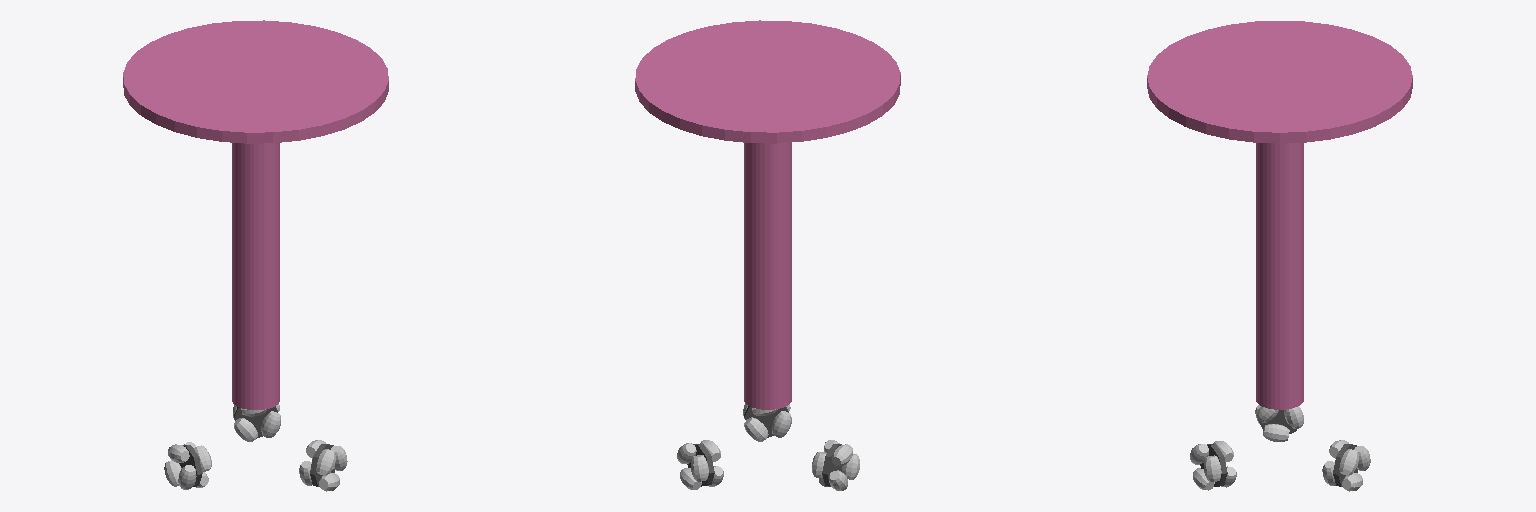
robot.urdf — rto:
<?xml version="1.0" ?>
<!-- =================================================================================== -->
<!-- |    This document was autogenerated by xacro from rto_platform_kinect.urdf.xacro | -->
<!-- |    EDITING THIS FILE BY HAND IS NOT RECOMMENDED                                 | -->
<!-- =================================================================================== -->
<robot name="rto" xmlns:xacro="http://ros.org/wiki/xacro">
  <!-- main rto body -->
  <link name="base_link">
    <inertial>
      <mass value="20"/>
      <origin xyz="0 0 0"/>
      <inertia ixx="1.0" ixy="0.0" ixz="0.0" iyy="1.0" iyz="0.0" izz="1.0"/>
    </inertial>
    <visual>
      <origin rpy="0 0 1.570795" xyz="0.01 0 0"/>
      <geometry>
        <mesh filename="package://tme_models/meshes/parts/rto_base.dae" scale="0.01 0.01 0.01"/>
      </geometry>
    </visual>
    <collision>
      <origin rpy="0 0 0" xyz="0 0 0.025"/>
      <geometry>
        <cylinder length="0.05" radius="0.18"/>
      </geometry>
    </collision>
  </link>
  <gazebo reference="base_link">
    <material>Gazebo/White</material>
    <turnGravityOff>false</turnGravityOff>
  </gazebo>
  <link name="wheel0_link">
    <inertial>
      <mass value="0.00001"/>
      <origin xyz="0 0 0"/>
      <inertia ixx="1.0" ixy="0.0" ixz="0.0" iyy="1.0" iyz="0.0" izz="1.0"/>
    </inertial>
    <visual>
      <origin rpy="0 0 0" xyz="0 0 0"/>
      <geometry>
        <mesh filename="package://tme_models/meshes/parts/rto_wheel.dae" scale="0.01 0.01 0.01"/>
      </geometry>
    </visual>
  </link>
  <gazebo reference="wheel0_link">
    <material>Gazebo/Yellow</material>
    <turnGravityOff>false</turnGravityOff>
  </gazebo>
  <joint name="wheel0_joint" type="continuous">
    <origin rpy="0 0 1.04719666667" xyz="0.065 0.11 0.04"/>
    <axis xyz="-1 0 0"/>
    <parent link="base_link"/>
    <child link="wheel0_link"/>
  </joint>
  <transmission name="wheel0_joint_trans">
    <type>transmissio_interface/SimpleTransmission</type>
    <joint name="wheel0_joint"/>
    <actuator name="wheel0_motor">
      <hardwareInterface>EffortJointInterface</hardwareInterface>
      <mechanicalReducation>1</mechanicalReducation>
    </actuator>
  </transmission>
  <link name="wheel1_link">
    <inertial>
      <mass value="0.00001"/>
      <origin xyz="0 0 0"/>
      <inertia ixx="1.0" ixy="0.0" ixz="0.0" iyy="1.0" iyz="0.0" izz="1.0"/>
    </inertial>
    <visual>
      <origin rpy="0 0 0" xyz="0 0 0"/>
      <geometry>
        <mesh filename="package://tme_models/meshes/parts/rto_wheel.dae" scale="0.01 0.01 0.01"/>
      </geometry>
    </visual>
  </link>
  <gazebo reference="wheel1_link">
    <material>Gazebo/Yellow</material>
    <turnGravityOff>false</turnGravityOff>
  </gazebo>
  <joint name="wheel1_joint" type="continuous">
    <origin rpy="0 0 0" xyz="-0.13 0 0.04"/>
    <axis xyz="1 0 0"/>
    <parent link="base_link"/>
    <child link="wheel1_link"/>
  </joint>
  <transmission name="wheel1_joint_trans">
    <type>transmissio_interface/SimpleTransmission</type>
    <joint name="wheel1_joint"/>
    <actuator name="wheel1_motor">
      <hardwareInterface>EffortJointInterface</hardwareInterface>
      <mechanicalReducation>1</mechanicalReducation>
    </actuator>
  </transmission>
  <link name="wheel2_link">
    <inertial>
      <mass value="0.00001"/>
      <origin xyz="0 0 0"/>
      <inertia ixx="1.0" ixy="0.0" ixz="0.0" iyy="1.0" iyz="0.0" izz="1.0"/>
    </inertial>
    <visual>
      <origin rpy="0 0 0" xyz="0 0 0"/>
      <geometry>
        <mesh filename="package://tme_models/meshes/parts/rto_wheel.dae" scale="0.01 0.01 0.01"/>
      </geometry>
    </visual>
  </link>
  <gazebo reference="wheel2_link">
    <material>Gazebo/Yellow</material>
    <turnGravityOff>false</turnGravityOff>
  </gazebo>
  <joint name="wheel2_joint" type="continuous">
    <origin rpy="0 0 -1.04719666667" xyz="0.065 -0.11 0.04"/>
    <axis xyz="-1 0 0"/>
    <parent link="base_link"/>
    <child link="wheel2_link"/>
  </joint>
  <transmission name="wheel2_joint_trans">
    <type>transmissio_interface/SimpleTransmission</type>
    <joint name="wheel2_joint"/>
    <actuator name="wheel2_motor">
      <hardwareInterface>EffortJointInterface</hardwareInterface>
      <mechanicalReducation>1</mechanicalReducation>
    </actuator>
  </transmission>
  <link name="command_bridge_link">
    <inertial>
      <mass value="0.00001"/>
      <origin xyz="0 0 0"/>
      <inertia ixx="1.0" ixy="0.0" ixz="0.0" iyy="1.0" iyz="0.0" izz="1.0"/>
    </inertial>
    <collision>
      <origin rpy="0 0 0" xyz="0 0 0"/>
      <geometry>
        <box size="0.25 0.11 0.16"/>
      </geometry>
    </collision>
  </link>
  <joint name="command_bridge_joint" type="fixed">
    <origin rpy="0 0 1.570795" xyz="-0.05 0 0.13"/>
    <parent link="base_link"/>
    <child link="command_bridge_link"/>
  </joint>
  <link name="anglebracketusb_link">
    <inertial>
      <mass value="0.00001"/>
      <origin xyz="0 0 0"/>
      <inertia ixx="1.0" ixy="0.0" ixz="0.0" iyy="1.0" iyz="0.0" izz="1.0"/>
    </inertial>
    <visual>
      <origin rpy="0 0 0" xyz="0 0 0"/>
      <geometry>
        <mesh filename="package://tme_models/meshes/parts/angle_bracket_usb_hub.dae" scale="0.01 0.01 0.01"/>
      </geometry>
    </visual>
  </link>
  <joint name="anglebracketusb_joint" type="fixed">
    <origin rpy="0 0 1.570795" xyz="0.008 0 0.137"/>
    <parent link="base_link"/>
    <child link="anglebracketusb_link"/>
  </joint>
  <gazebo>
    <plugin filename="libgazebo_ros_planar_move.so" name="object_controller">
      <commandTopic>cmd_vel</commandTopic>
      <odometryTopic>odom</odometryTopic>
      <odometryFrame>odom</odometryFrame>
      <odometryRate>20</odometryRate>
      <robotBaseFrame>base_link</robotBaseFrame>
    </plugin>
    <plugin filename="libgazebo_ros_control.so" name="gazebo_ros_control"/>
  </gazebo>
  <!-- add platform -->
  <link name="platform_link">
    <inertial>
      <mass value="0.00001"/>
      <origin xyz="0 0 0"/>
      <inertia ixx="1.0" ixy="0.0" ixz="0.0" iyy="1.0" iyz="0.0" izz="1.0"/>
    </inertial>
    <visual>
      <origin xyz="0 0 0.29"/>
      <geometry>
        <cylinder length="0.58" radius="0.04"/>
      </geometry>
    </visual>
    <visual>
      <origin xyz="0 0 0.58"/>
      <geometry>
        <!-- actual length = 0.015 -->
        <cylinder length="0.02" radius="0.22"/>
      </geometry>
    </visual>
  </link>
  <joint name="platform_joint" type="fixed">
    <origin rpy="0 0 0" xyz="0.0 0.0 0.13"/>
    <parent link="base_link"/>
    <child link="platform_link"/>
  </joint>
  <!-- add kinect -->
  <joint name="kinect_joint" type="fixed">
    <origin xyz="0.2 0.0 0.75"/>
    <parent link="base_link"/>
    <child link="kinect_link"/>
  </joint>
  <link name="kinect_link">
    <inertial>
      <mass value="0.00001"/>
      <origin xyz="0 0 0"/>
      <inertia ixx="1.0" ixy="0.0" ixz="0.0" iyy="1.0" iyz="0.0" izz="1.0"/>
    </inertial>
    <visual>
      <origin rpy="0 0 1.570795" xyz="0 0 0"/>
      <!-- <origin xyz="0 0 0" rpy="0 0 0" /> -->
      <geometry>
        <mesh filename="package://tme_models/meshes/sensors/kinect.dae"/>
        <!-- <box size="${KINECT_LENGTH} ${KINECT_WIDTH} ${KINECT_HEIGHT}"/> -->
      </geometry>
      <!-- <material name="${color}"/> -->
    </visual>
    <collision>
      <origin rpy="0 0 0" xyz="0 0 0"/>
      <geometry>
        <box size="0.064 0.121 0.0381"/>
      </geometry>
    </collision>
  </link>
  <gazebo reference="camera_link">
    <sensor name="camera" type="depth">
      <always_on>true</always_on>
      <update_rate>20.0</update_rate>
      <camera>
        <horizontal_fov>1.04719666667</horizontal_fov>
        <image>
          <format>R8G8B8</format>
          <width>640</width>
          <height>480</height>
        </image>
        <clip>
          <near>0.05</near>
          <far>8.0</far>
        </clip>
      </camera>
      <plugin filename="libgazebo_ros_openni_kinect.so" name="kinect_camera_controller">
        <cameraName>camera</cameraName>
        <alwaysOn>true</alwaysOn>
        <updateRate>10</updateRate>
        <imageTopicName>rgb/image_raw</imageTopicName>
        <depthImageTopicName>depth/image_raw</depthImageTopicName>
        <pointCloudTopicName>depth/points</pointCloudTopicName>
        <cameraInfoTopicName>rgb/camera_info</cameraInfoTopicName>
        <depthImageCameraInfoTopicName>depth/camera_info</depthImageCameraInfoTopicName>
        <frameName>camera_depth_optical_frame</frameName>
        <baseline>0.1</baseline>
        <distortion_k1>0.0</distortion_k1>
        <distortion_k2>0.0</distortion_k2>
        <distortion_k3>0.0</distortion_k3>
        <distortion_t1>0.0</distortion_t1>
        <distortion_t2>0.0</distortion_t2>
        <pointCloudCutoff>0.4</pointCloudCutoff>
      </plugin>
    </sensor>
  </gazebo>
</robot>

--- Facts derived from the render (not from the file) ---
The picture shows the robot from 3 angles, left to right: view 1: azimuth 30°, elevation 25°; view 2: azimuth 150°, elevation 25°; view 3: azimuth 270°, elevation 25°; orthographic projection.
Robot: rto — 8 links, 7 joints (3 continuous, 4 fixed); root link base_link; default pose: every joint at zero.
Visible links, largest first — view 1: platform_link, wheel1_link, wheel2_link, wheel0_link; view 2: platform_link, wheel0_link, wheel1_link, wheel2_link; view 3: platform_link, wheel2_link, wheel0_link, wheel1_link.
Link boxes in pixels (x1,y1,x2,y2): platform_link: (123,20,388,409); wheel1_link: (164,442,211,489); wheel2_link: (299,440,347,491); wheel0_link: (233,404,280,441); platform_link: (635,20,900,409); wheel0_link: (677,440,723,489); wheel1_link: (812,440,859,490); wheel2_link: (743,403,791,441); platform_link: (1147,21,1412,409); wheel2_link: (1190,441,1236,490); wheel0_link: (1322,440,1370,491); wheel1_link: (1255,405,1303,441).
Bounding box of the posed robot: 0.44 × 0.44 × 0.7202 m (x, y, z).
3 mesh visuals loaded from 4 distinct referenced files (1 Collada DAE); not drawn: 3 (reference not matched to a file when rendering).
